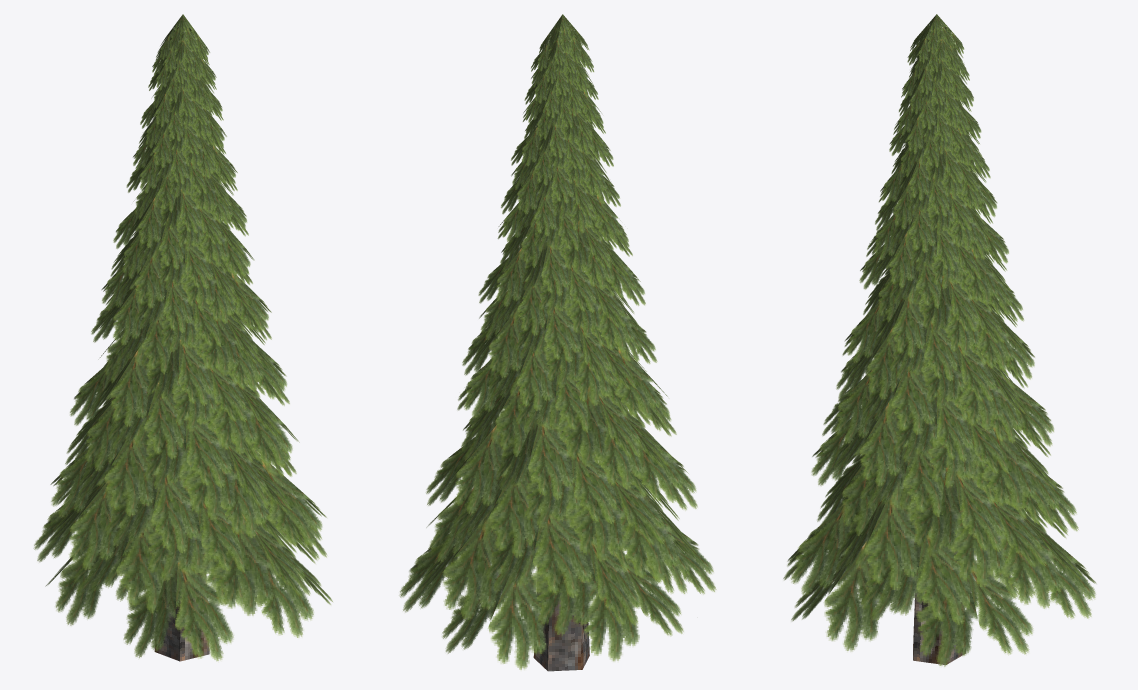
File: tree.glb
The picture shows the model from 3 angles, left to right: view 1: azimuth 30°, elevation 25°; view 2: azimuth 150°, elevation 25°; view 3: azimuth 270°, elevation 25°; orthographic projection.
Visible parts, largest first — view 1: tree; view 2: tree; view 3: tree.
Part boxes in pixels (x1,y1,x2,y2): tree: (33, 14, 332, 661); tree: (399, 14, 716, 671); tree: (783, 14, 1096, 666).
Size of the model in its own units: 5.88 by 12.02 by 6.16.
Materials: 2 (2 with a texture image).
